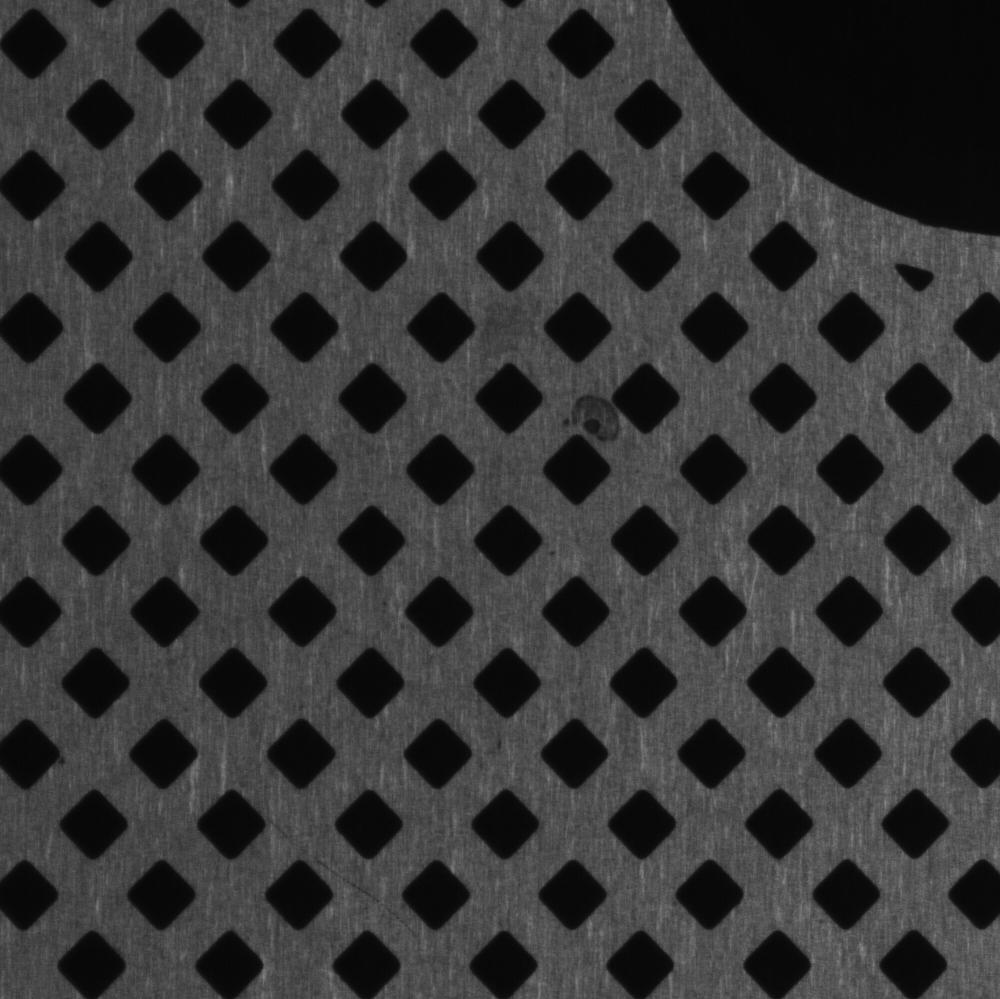Discolor: (557, 377, 633, 452)
Scar: (267, 816, 422, 952)
